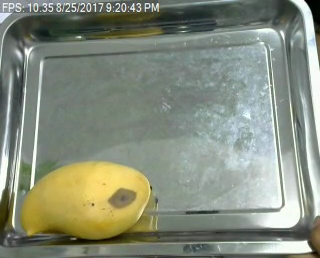Mango: (18, 159, 153, 244)
